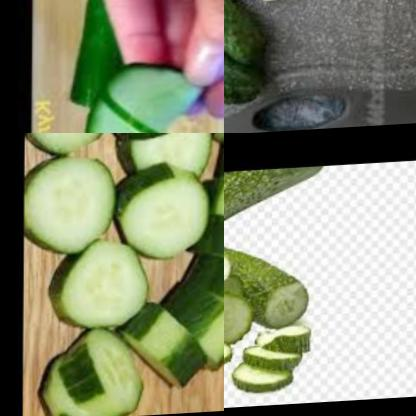cucumber: (73, 44, 214, 133), (224, 168, 329, 275), (51, 239, 164, 334), (41, 326, 152, 416), (25, 155, 122, 257), (117, 165, 215, 265), (133, 283, 224, 390), (224, 239, 308, 333), (227, 316, 305, 398), (67, 0, 115, 133), (119, 133, 219, 188), (224, 4, 269, 113), (203, 173, 224, 322), (25, 133, 117, 161)
